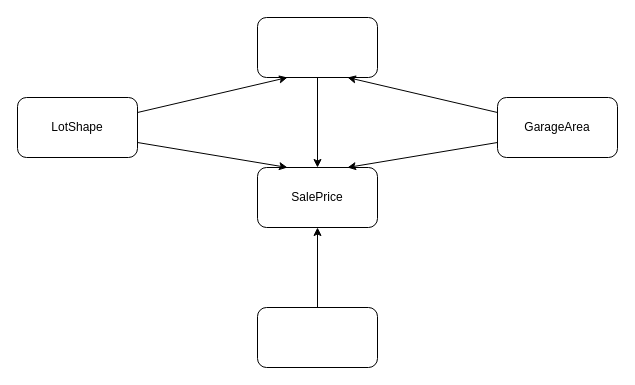
Some shapes in this 635 by 385 pixel diagram are drawn without their labels. The centre of each missing label's shape, as x and y in pixels:
"LotArea" belongs at (x=317, y=47).
"OverallQual" belongs at (x=317, y=337).
